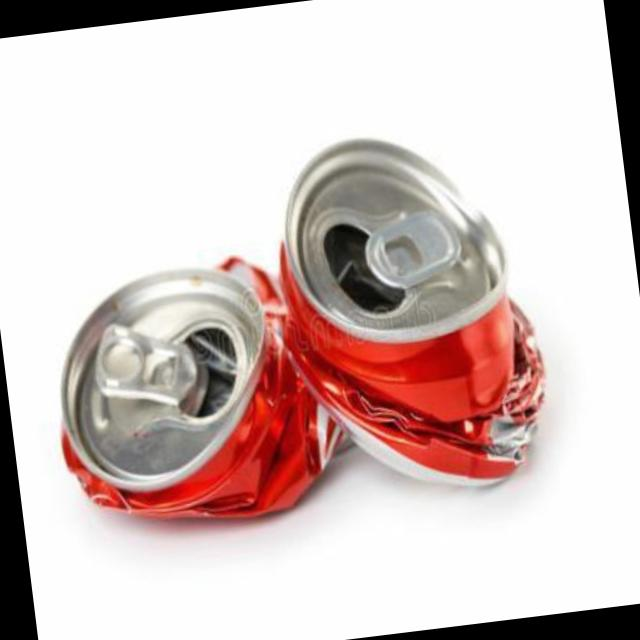metal: (281, 136, 544, 481), (63, 255, 340, 513)
